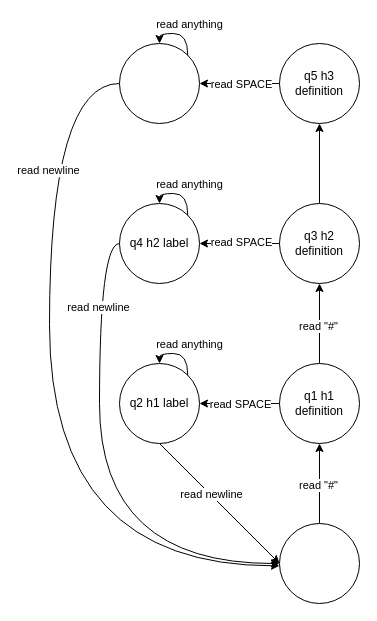
This 377x621 diagram has some shape labels left out. The centre of each missing label's shape, as x and y in pixels:
"q0 start" belongs at (x=319, y=563).
"q6 h3 label" belongs at (x=159, y=83).
